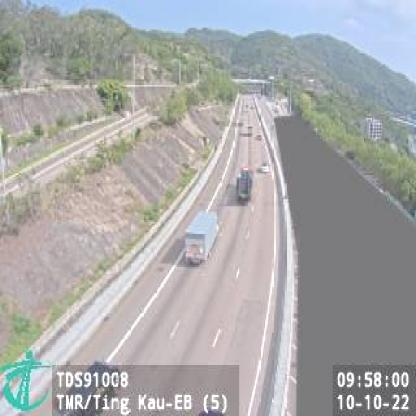Car: (259, 160, 270, 174)
Truck: (184, 209, 221, 261), (236, 165, 253, 203)
